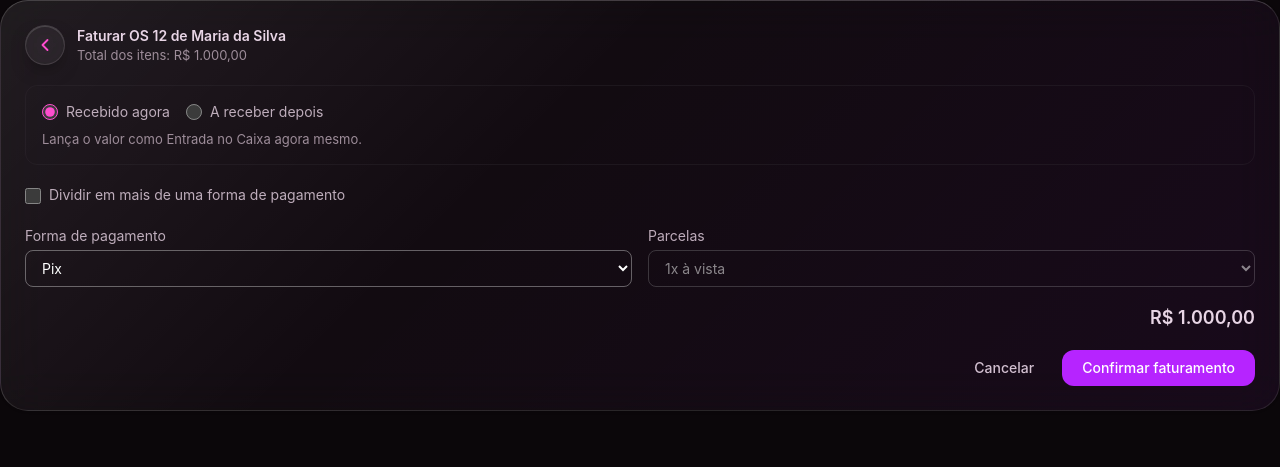
Scenario: FaturamentoCard — pagamento dividido › só habilita o confirmar quando a soma das formas fecha com o total dos itens
Click the checkbox labelled "Dividir em mais de uma forma de pagamento".
click(33, 196)  # box [25, 188, 41, 204]
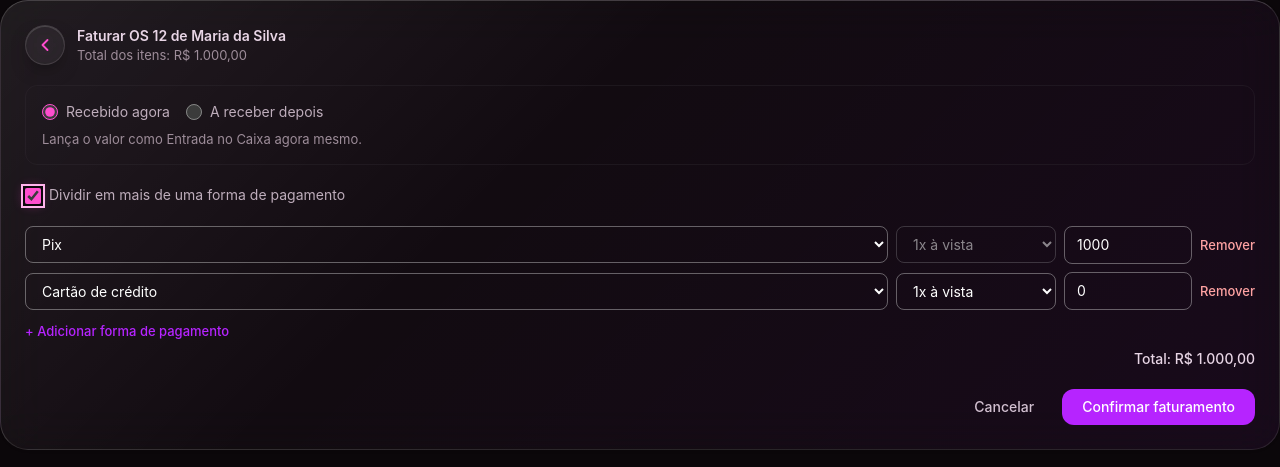
Replace the text in the 1st number field with "600" at (1128, 245), box [1064, 226, 1192, 264]
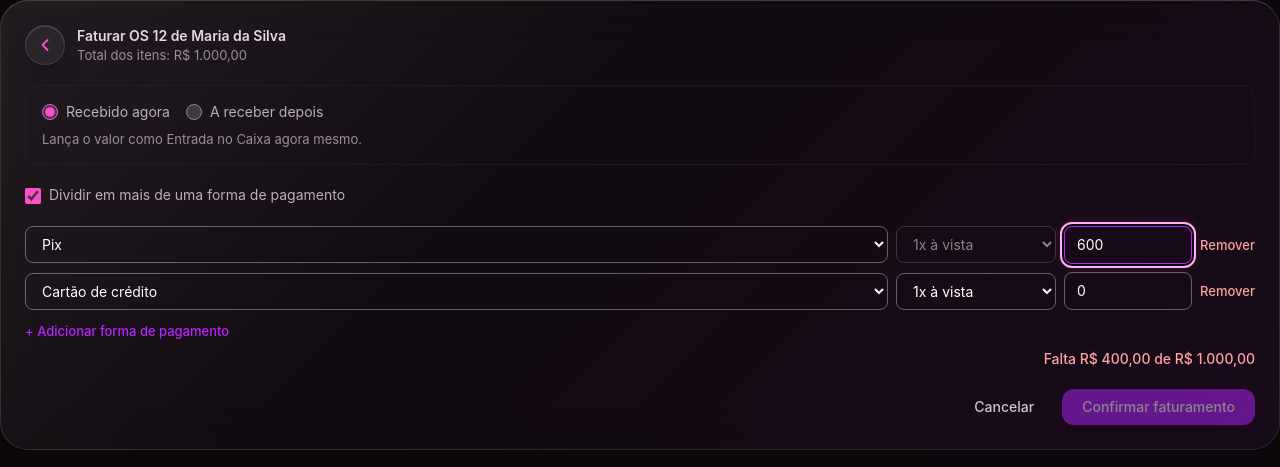
Now the button "Confirmar faturamento" is disabled, box [1062, 389, 1255, 425]
Replace the text in the 2nd number field with "400" at (1128, 291), box [1064, 272, 1192, 310]
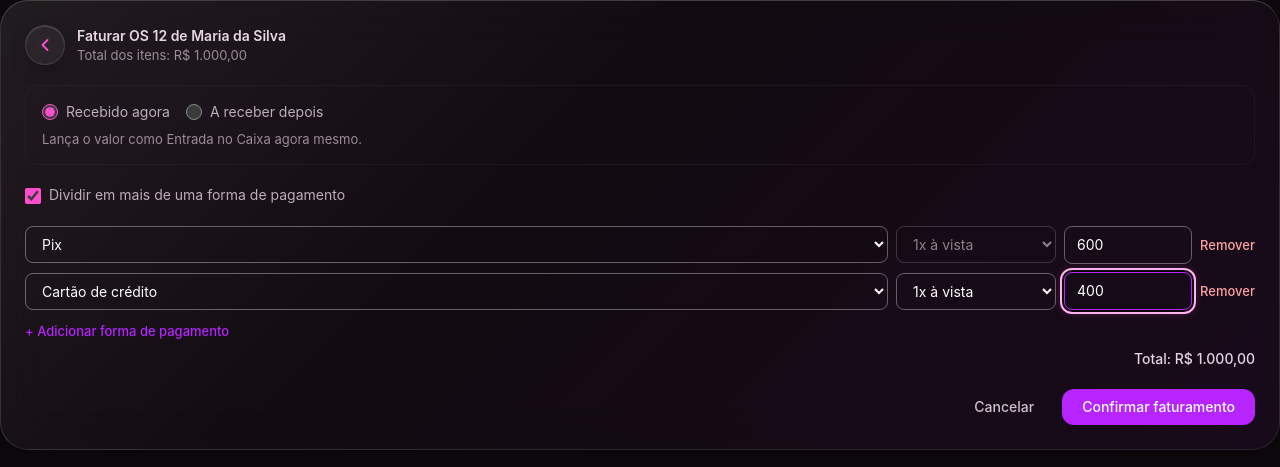
Now the button "Confirmar faturamento" is enabled, box [1062, 389, 1255, 425]
